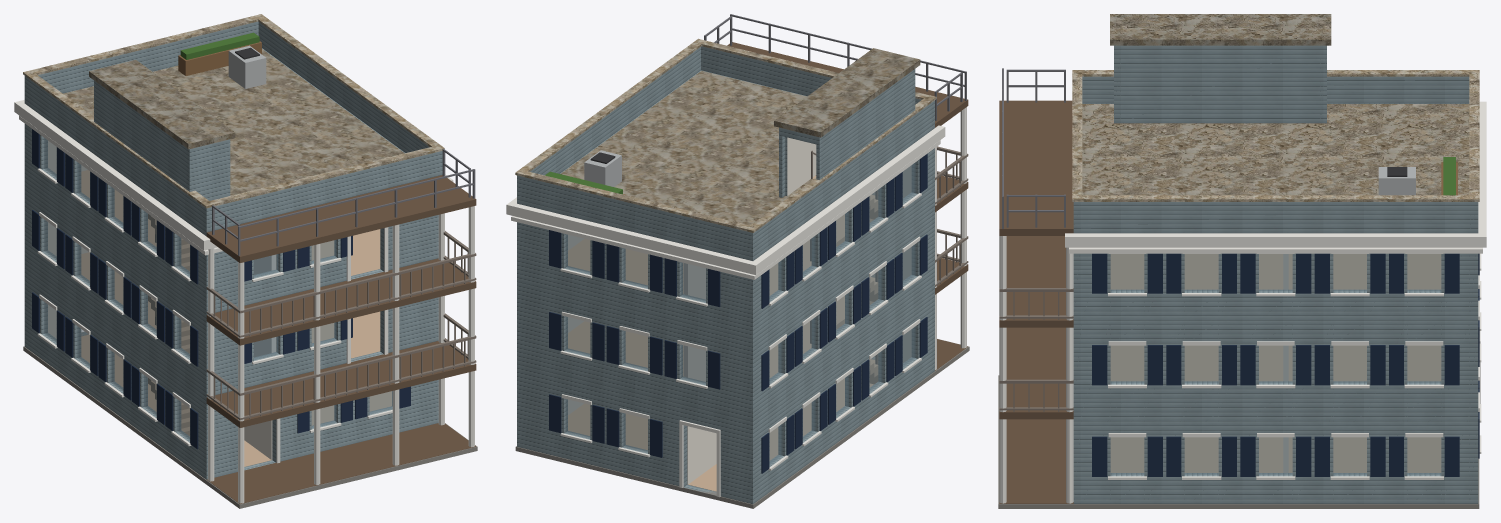
File: ns-triple-decker.towns-v1.lod0.glb
3 views of the same model, side by side, from view 1: azimuth 30°, elevation 25°; view 2: azimuth 150°, elevation 25°; view 3: azimuth 270°, elevation 25° (orthographic). The views are drawn at different scales.
Parts seen in each view (by area): view 1: ns-triple-decker; view 2: ns-triple-decker; view 3: ns-triple-decker.
Boxes of the visible parts, x1,y1,x2,y2 form: ns-triple-decker: (14,14,477,508); ns-triple-decker: (506,14,969,508); ns-triple-decker: (998,14,1486,508).
Bounding box in the file's own units: 9.5 × 11.95 × 14.48.
6 materials, 2 textured.
